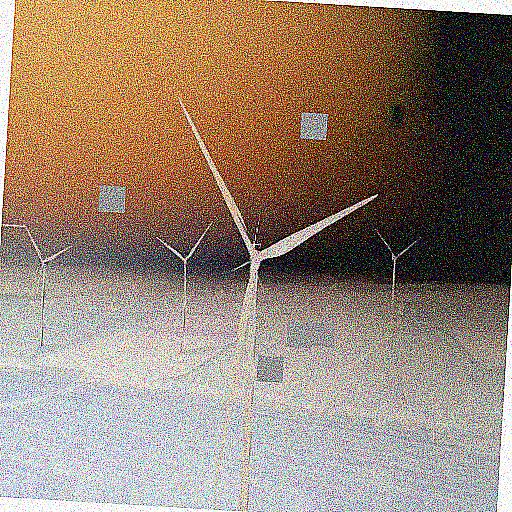wind turbine: (179, 97, 382, 497), (155, 218, 216, 329), (24, 223, 74, 343), (374, 228, 424, 306)
